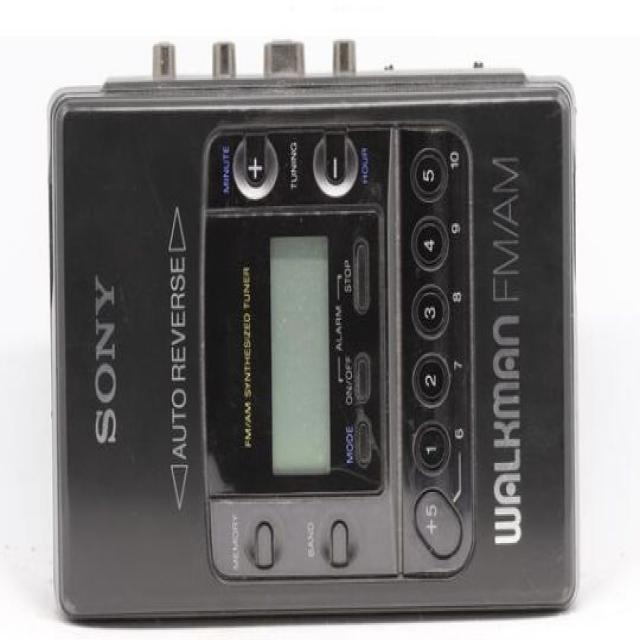electronic: (48, 38, 578, 622)
